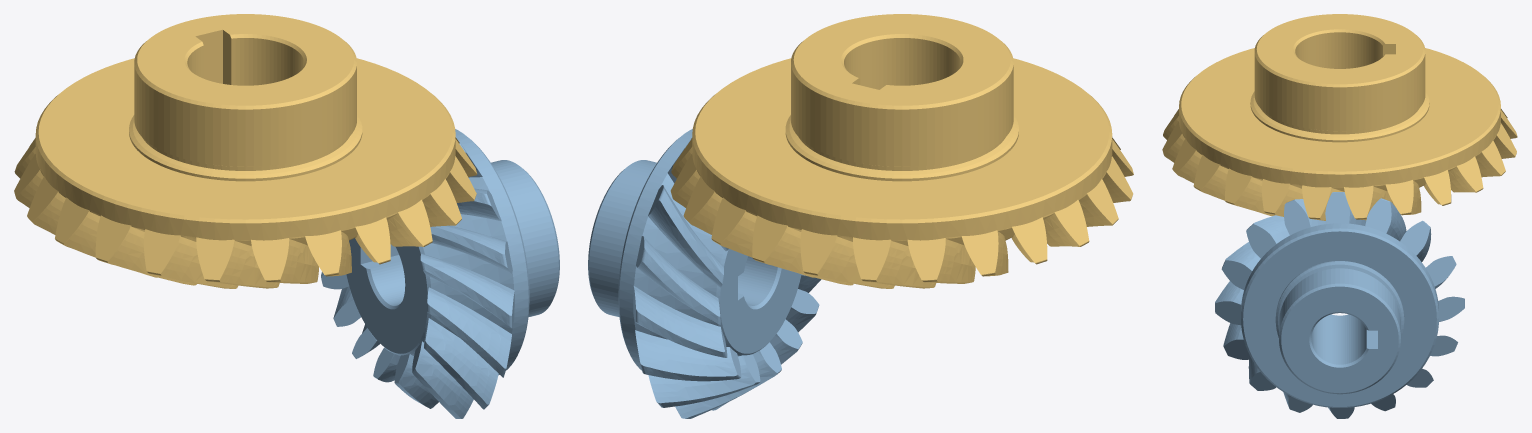
Rendered from t2_spiral_bevel_gear_kimi.glb.
The picture shows the model from 3 angles, left to right: view 1: azimuth 30°, elevation 25°; view 2: azimuth 150°, elevation 25°; view 3: azimuth 270°, elevation 25°; orthographic projection. The views are drawn at different scales.
Visible parts, largest first — view 1: gear, pinion; view 2: gear, pinion; view 3: gear, pinion.
Boxes of the visible parts, x1,y1,x2,y2 form: gear: (14, 14, 477, 288); pinion: (321, 129, 559, 418); gear: (670, 14, 1133, 288); pinion: (588, 129, 821, 418); gear: (1162, 14, 1517, 220); pinion: (1215, 192, 1464, 418).
Bounding box in the file's own units: 0.1037 × 0.0816 × 0.0873.
